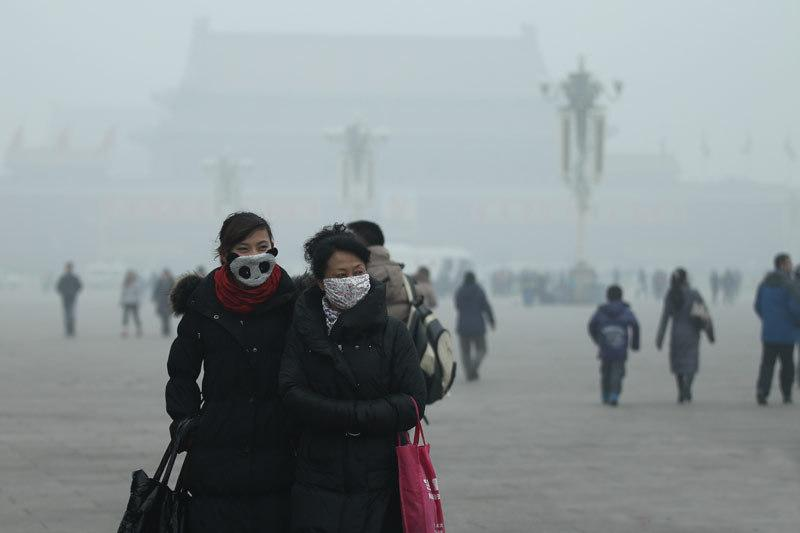person: (164, 211, 311, 532), (277, 222, 426, 533), (318, 220, 414, 531), (654, 265, 716, 405), (752, 251, 798, 406), (584, 284, 641, 407), (452, 271, 498, 383), (54, 259, 84, 338), (117, 268, 144, 341), (150, 268, 178, 337)
